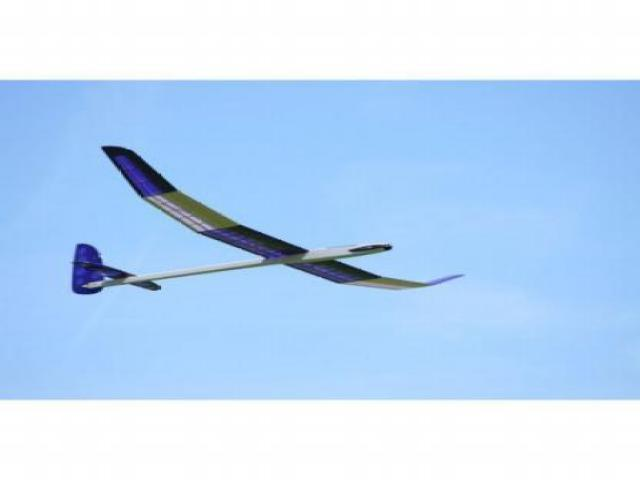uav: (68, 143, 470, 312)
